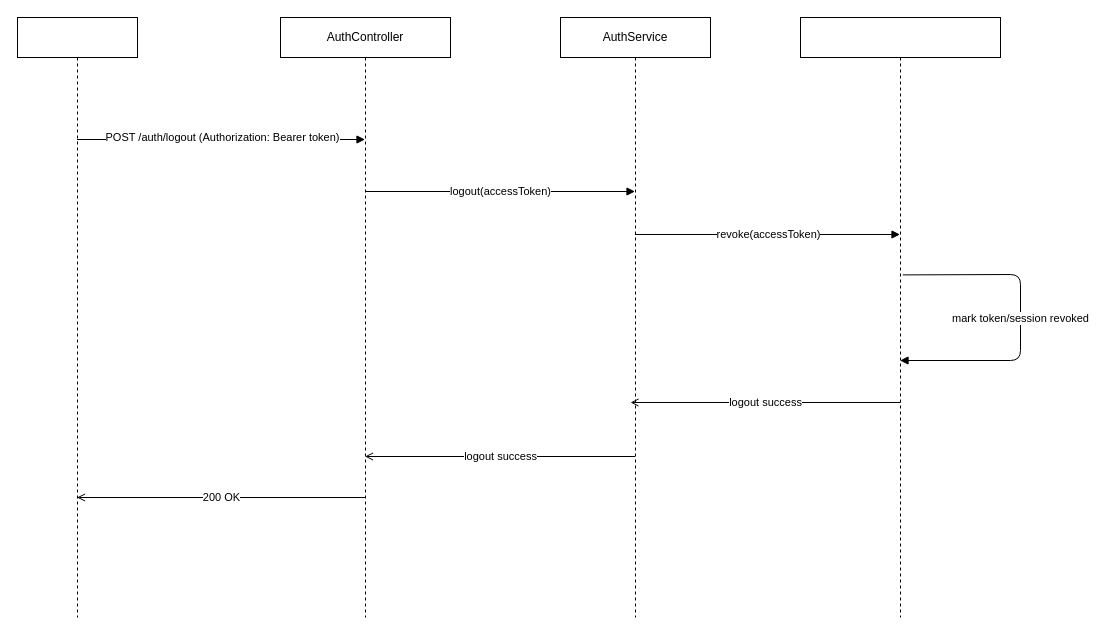
Some shapes in this 1106 by 635 pixel diagram are drawn without their labels. Each missing label, with the box of its shape:
Client: (16, 16, 138, 618)
TokenRevocationService: (800, 16, 1000, 618)
